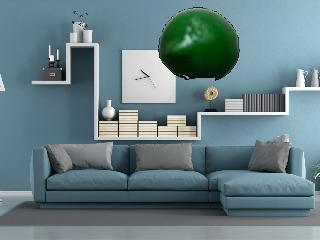lime: (158, 7, 240, 82)
